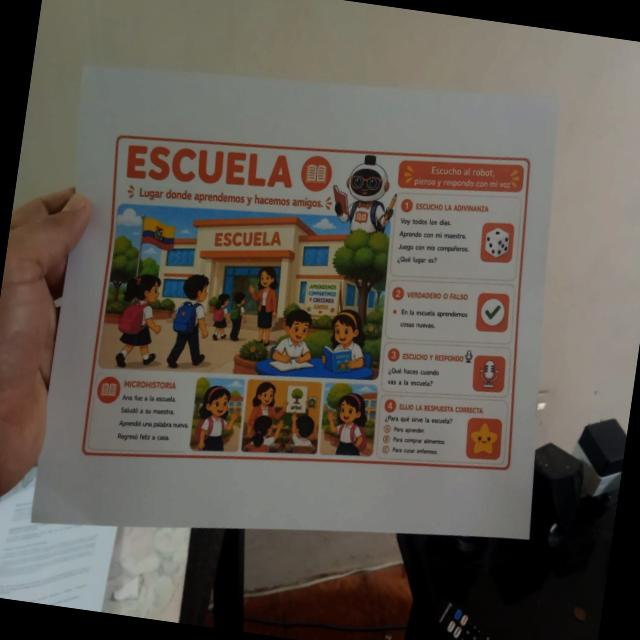escuela: (68, 96, 557, 522)
